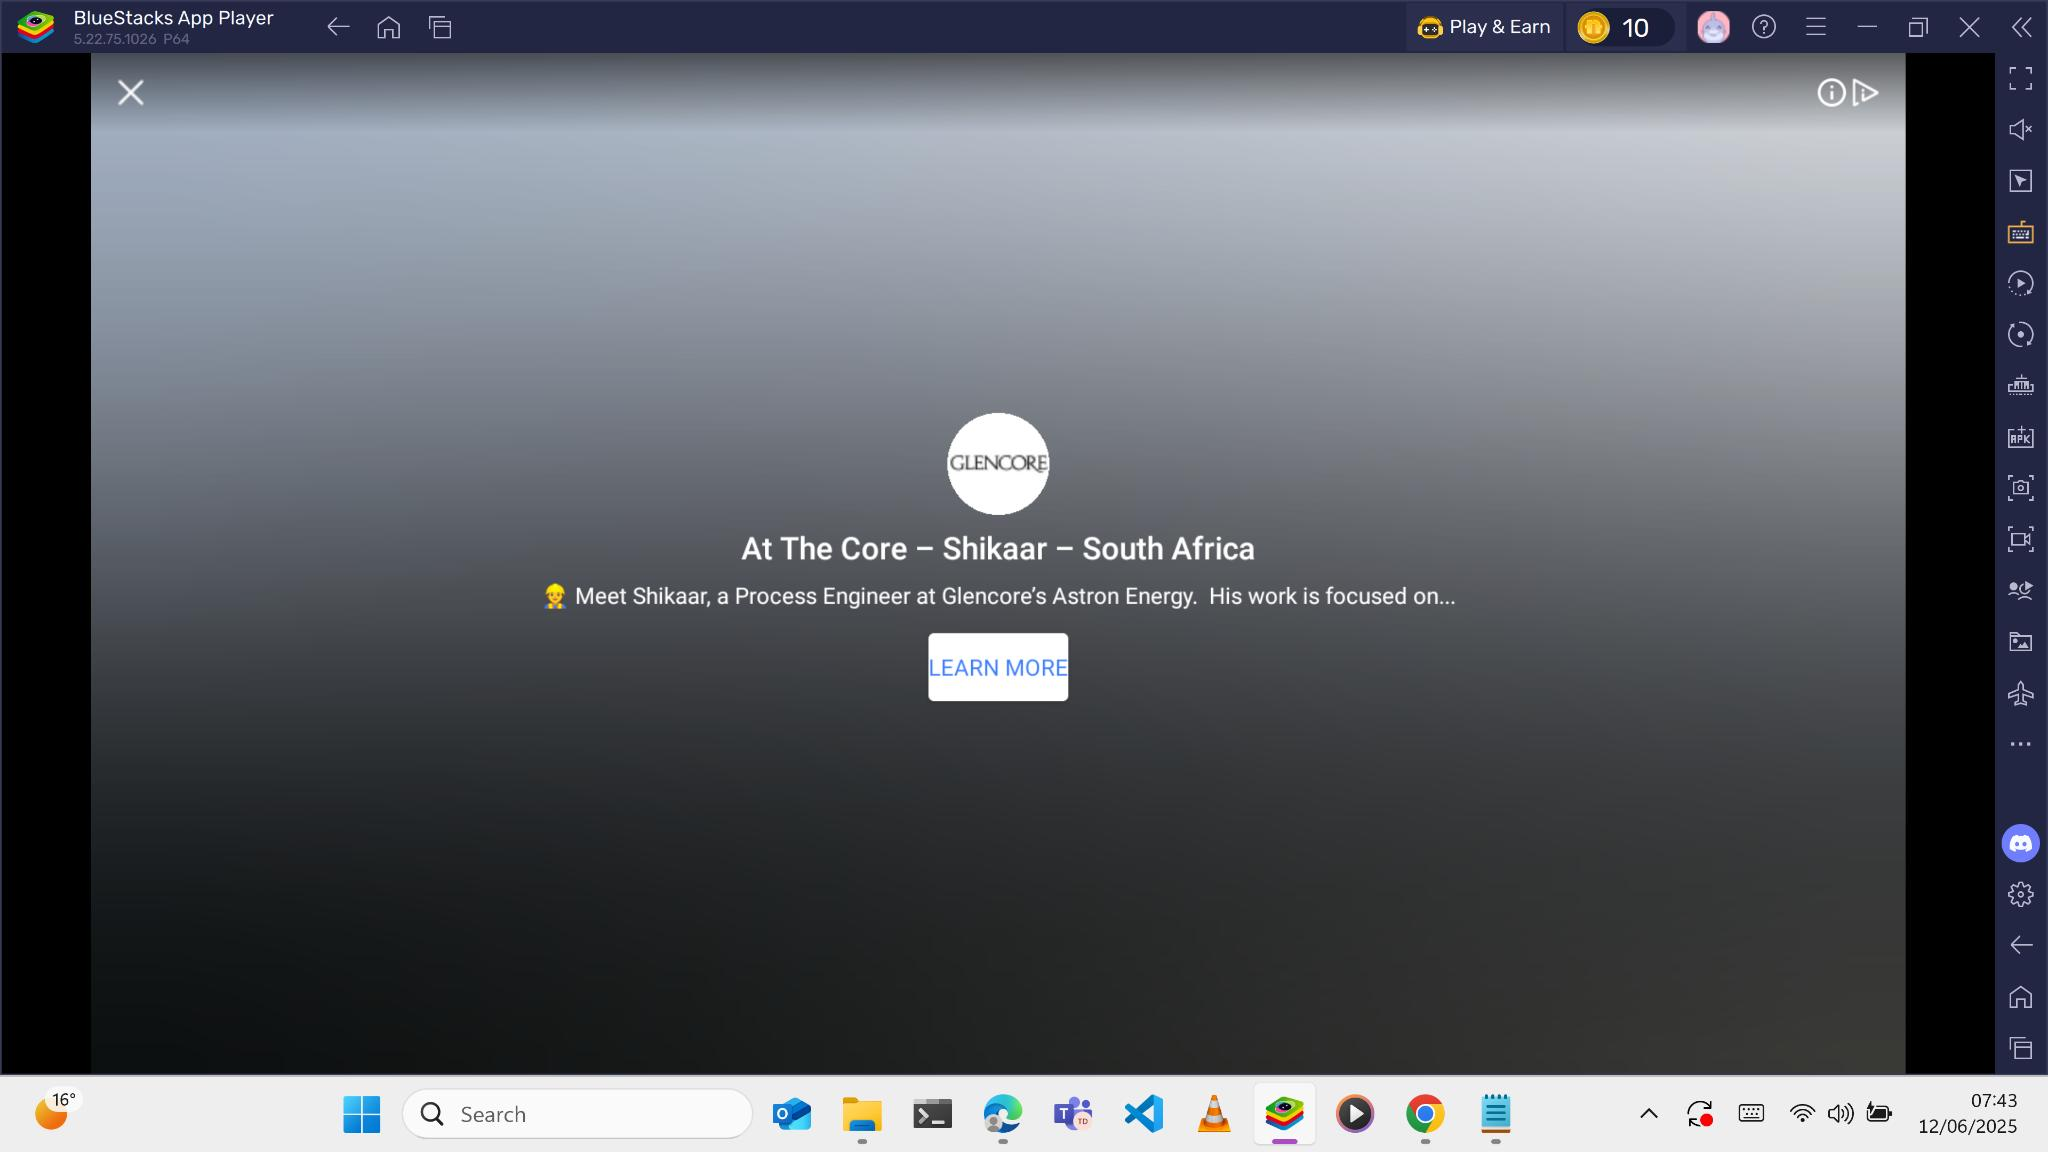close_ad: (117, 77, 145, 107)
